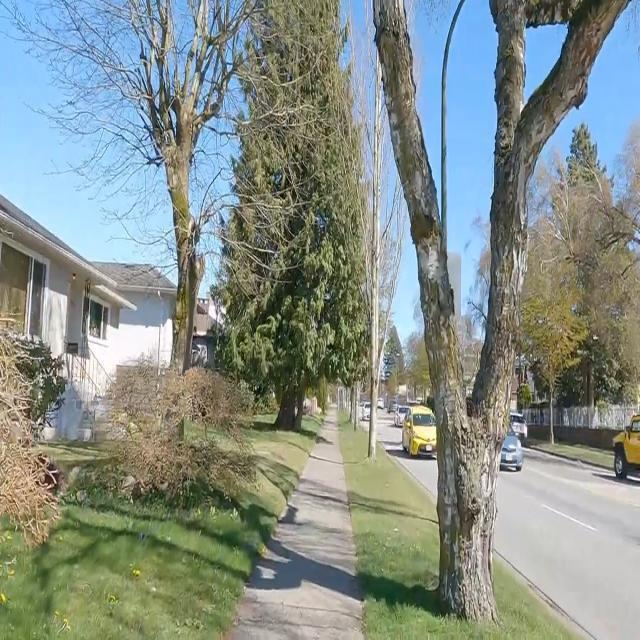Automobile: (614, 414, 639, 479), (403, 406, 435, 456), (500, 432, 523, 469), (511, 411, 527, 442)
Road: (496, 448, 639, 639), (378, 415, 435, 496)
Sidewalk: (229, 411, 363, 639)
